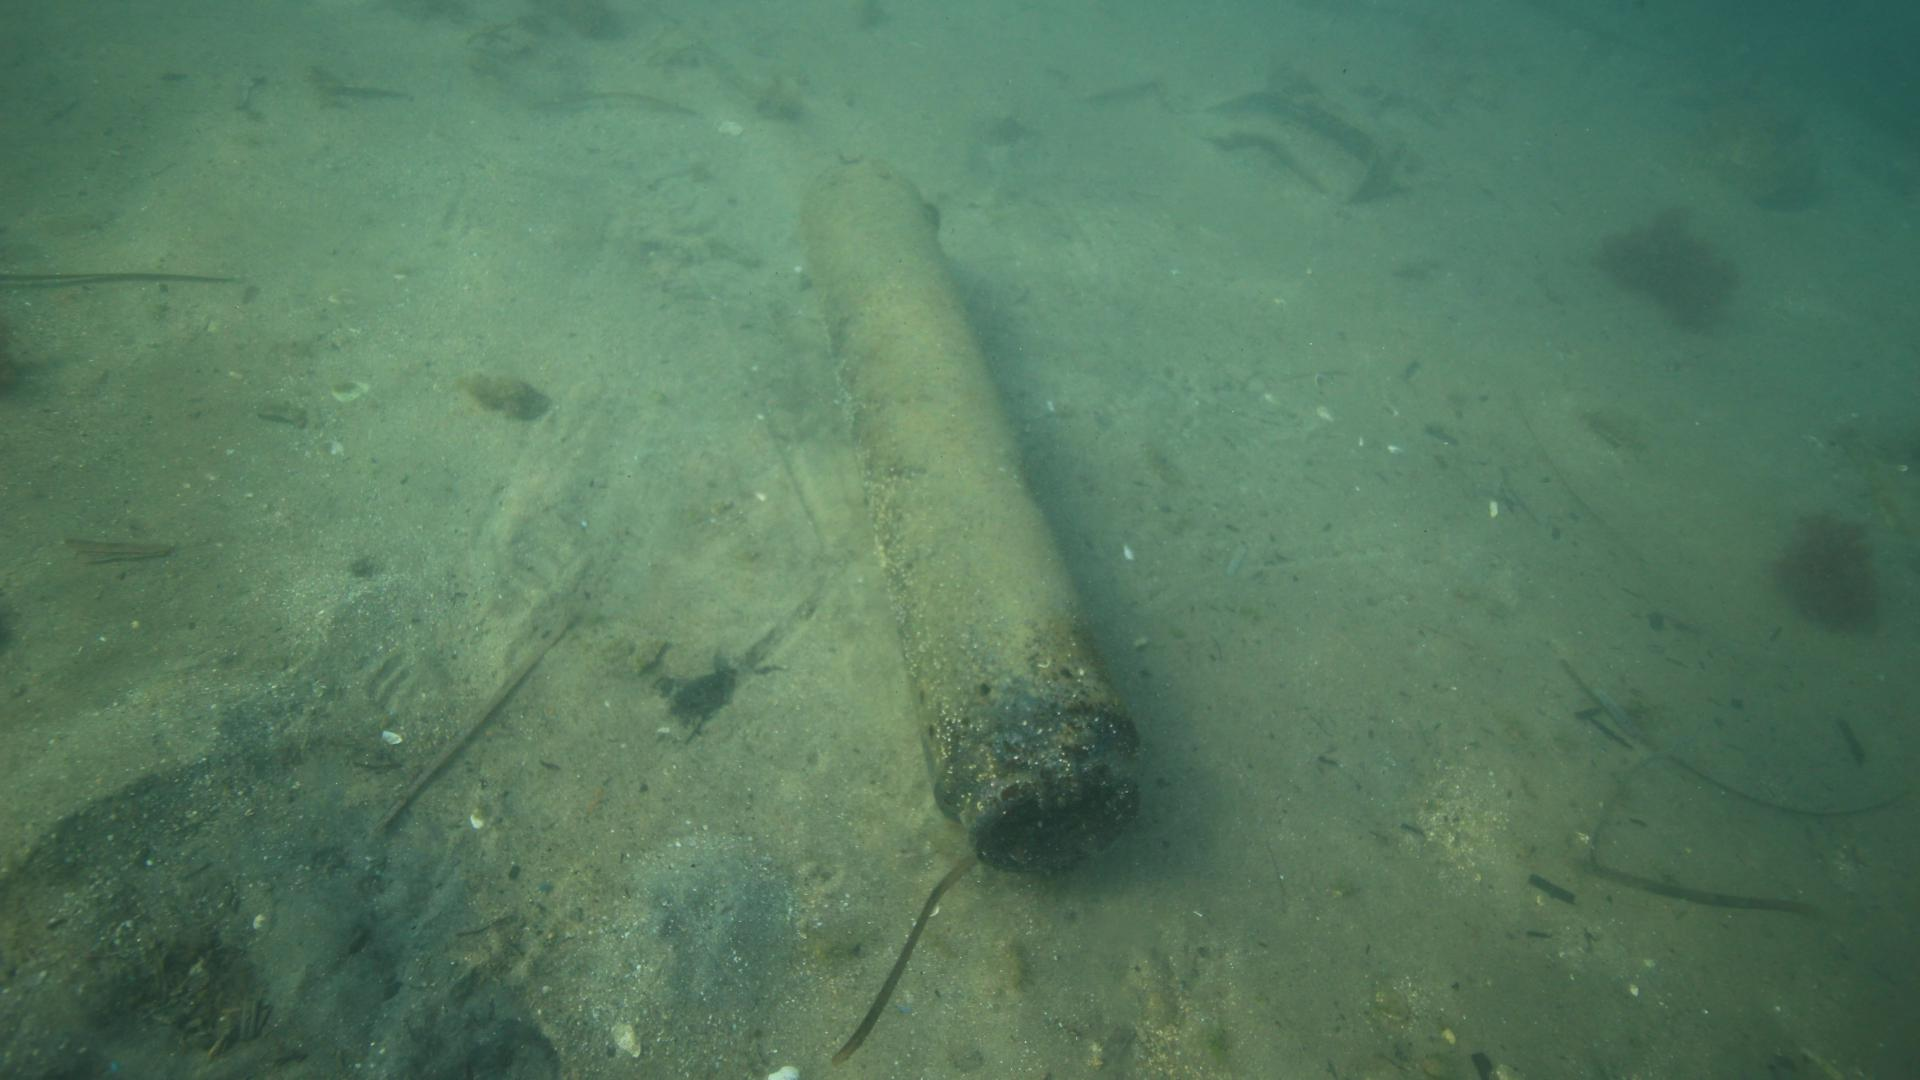eel fish trap: (798, 152, 1145, 876)
